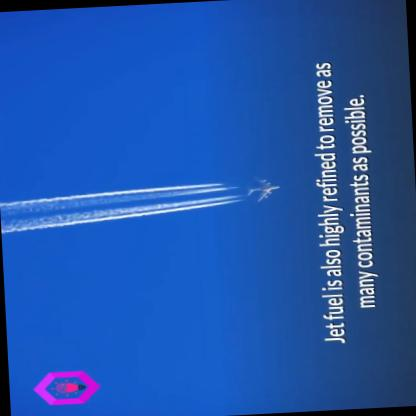plane: (246, 171, 281, 202)
